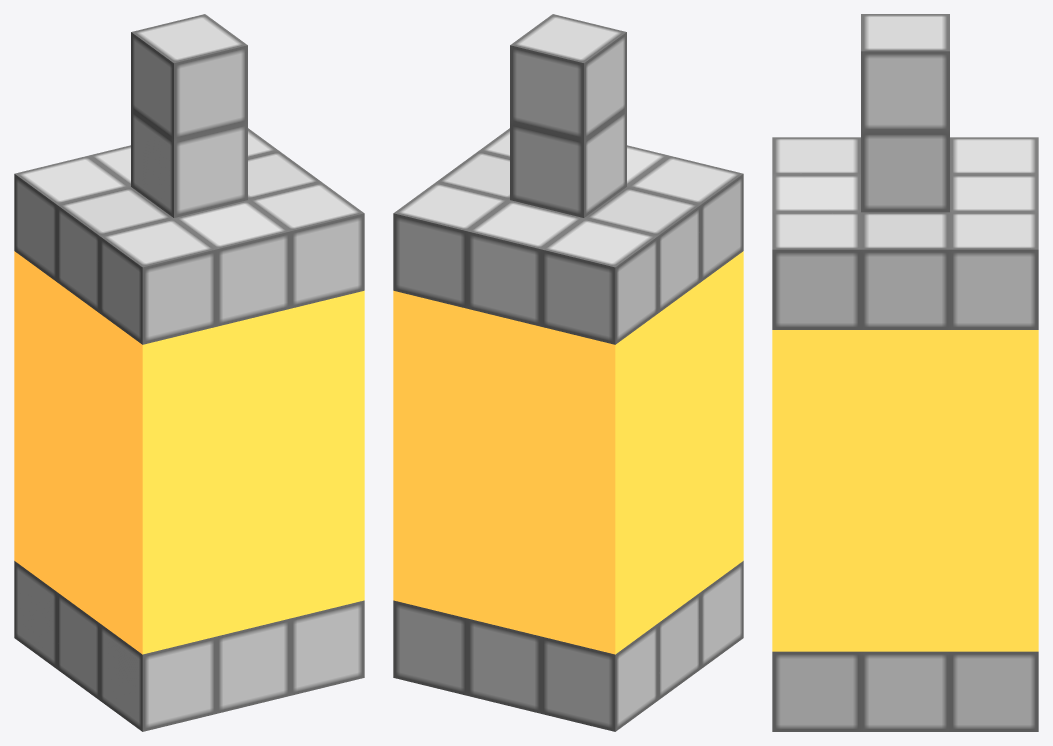
Rendered from backdrop_lantern.glb.
3 views of the same model, side by side, from view 1: azimuth 30°, elevation 25°; view 2: azimuth 150°, elevation 25°; view 3: azimuth 270°, elevation 25° (orthographic). The views are drawn at different scales.
Parts seen in each view (by area): view 1: backdrop_lantern; view 2: backdrop_lantern; view 3: backdrop_lantern.
Boxes of the visible parts, x1,y1,x2,y2 form: backdrop_lantern: (14, 14, 364, 731); backdrop_lantern: (393, 14, 743, 731); backdrop_lantern: (772, 14, 1038, 731).
Bounding box in the file's own units: 0.15 × 0.4 × 0.15.
Materials: 2 (1 with a texture image).
